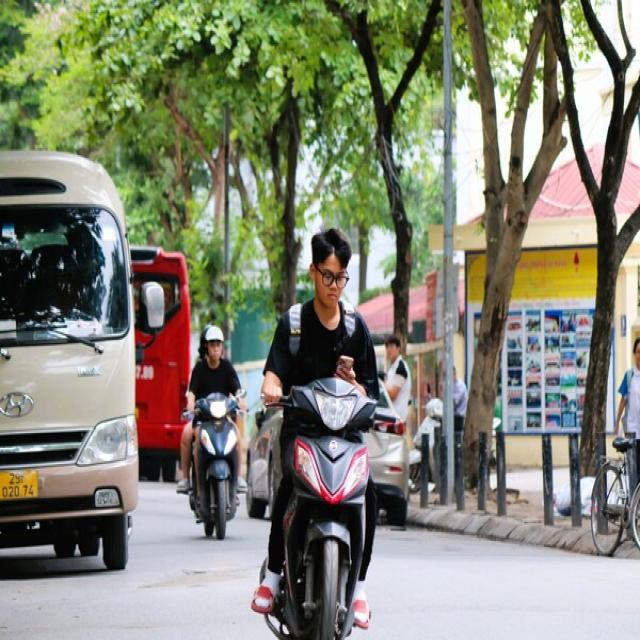no_helmet: (302, 217, 358, 318)
